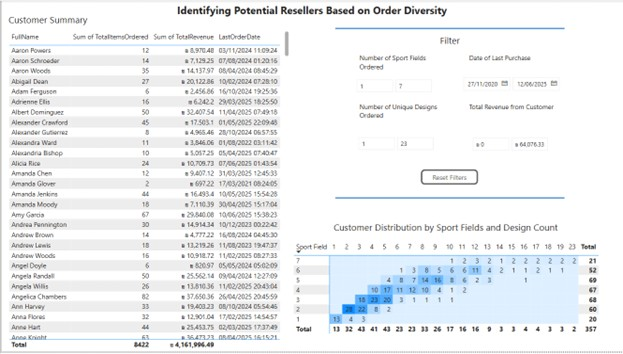

Layout of this report page (visuals, bound fields, positions):
{"tool":"powerbi","page":{"name":"Report","canvas":[1280,720],"ordinal":0},"visuals":[{"type":"tableEx","fields":{"Values":["SuspiciousResellersSummary.FullName","Sum(SuspiciousResellersSummary.TotalItemsOrdered)","Sum(SuspiciousResellersSummary.TotalRevenue)","SuspiciousResellersSummary.LastOrderDate"]},"box":[3.6,57.9,587.5,662.3],"z":0},{"type":"pivotTable","fields":{"Rows":["SuspiciousResellersSummary.SportFieldCount"],"Columns":["SuspiciousResellersSummary.DesignCount"],"Values":["CountNonNull(SuspiciousResellersSummary.CustomerID)"]},"box":[597.2,488.6,682.8,203.9],"z":1000},{"type":"slicer","fields":{"Values":["SuspiciousResellersSummary.SportFieldCount"]},"box":[718.8,151.5,181.1,39.8],"z":2000},{"type":"slicer","fields":{"Values":["SuspiciousResellersSummary.LastOrderDate"]},"box":[938.6,146.8,218.2,43.9],"z":3000},{"type":"slicer","fields":{"Values":["SuspiciousResellersSummary.DesignCount"]},"box":[723.2,270.3,181.1,43.9],"z":4000},{"type":"slicer","fields":{"Values":["SuspiciousResellersSummary.TotalRevenue"]},"box":[957.8,271.7,179.8,42.5],"z":5000},{"type":"textbox","box":[732.8,204.5,181.1,50.8],"z":6000},{"type":"textbox","box":[957.8,204.5,190.7,53.5],"z":7000},{"type":"textbox","box":[957.8,104.3,190.7,35.7],"z":8000},{"type":"textbox","box":[732.8,104.3,146.8,46.7],"z":9000},{"type":"textbox","box":[297.8,0,683.4,43.9],"z":10000},{"type":"textbox","box":[9.6,22,218.2,38.4],"z":11000},{"type":"textbox","box":[679.8,447.7,517.3,41.5],"z":12000},{"type":"actionButton","box":[863.8,346.5,117.7,31.5],"z":13000},{"type":"textbox","box":[773.3,63.9,300.4,39.8],"z":14000},{"type":"shape","box":[687.7,389.7,471.7,48.3],"z":15000},{"type":"shape","box":[687.7,25.3,471.7,63.9],"z":16000}]}

Visuals, with their boxes in screenshot pixels (x1, y1, x2, y2), scaled from the page's 1280x720 canvas onto the 623x354 screenshot:
tableEx - SuspiciousResellersSummary.FullName x Sum(SuspiciousResellersSummary.TotalItemsOrdered): pyautogui.locateOnScreen(2, 28, 288, 353)
pivotTable - SuspiciousResellersSummary.SportFieldCount x SuspiciousResellersSummary.DesignCount: pyautogui.locateOnScreen(291, 240, 622, 340)
slicer - SuspiciousResellersSummary.SportFieldCount: pyautogui.locateOnScreen(350, 74, 438, 94)
slicer - SuspiciousResellersSummary.LastOrderDate: pyautogui.locateOnScreen(457, 72, 563, 94)
slicer - SuspiciousResellersSummary.DesignCount: pyautogui.locateOnScreen(352, 133, 440, 154)
slicer - SuspiciousResellersSummary.TotalRevenue: pyautogui.locateOnScreen(466, 134, 554, 154)
textbox: pyautogui.locateOnScreen(357, 101, 445, 126)
textbox: pyautogui.locateOnScreen(466, 101, 559, 127)
textbox: pyautogui.locateOnScreen(466, 51, 559, 69)
textbox: pyautogui.locateOnScreen(357, 51, 428, 74)
textbox: pyautogui.locateOnScreen(145, 0, 478, 22)
textbox: pyautogui.locateOnScreen(5, 11, 111, 30)
textbox: pyautogui.locateOnScreen(331, 220, 583, 241)
actionButton: pyautogui.locateOnScreen(420, 170, 478, 186)
textbox: pyautogui.locateOnScreen(376, 31, 523, 51)
shape: pyautogui.locateOnScreen(335, 192, 564, 215)
shape: pyautogui.locateOnScreen(335, 12, 564, 44)
